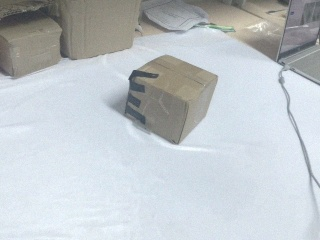box: (124, 53, 218, 145), (58, 1, 142, 60), (1, 4, 62, 78)
